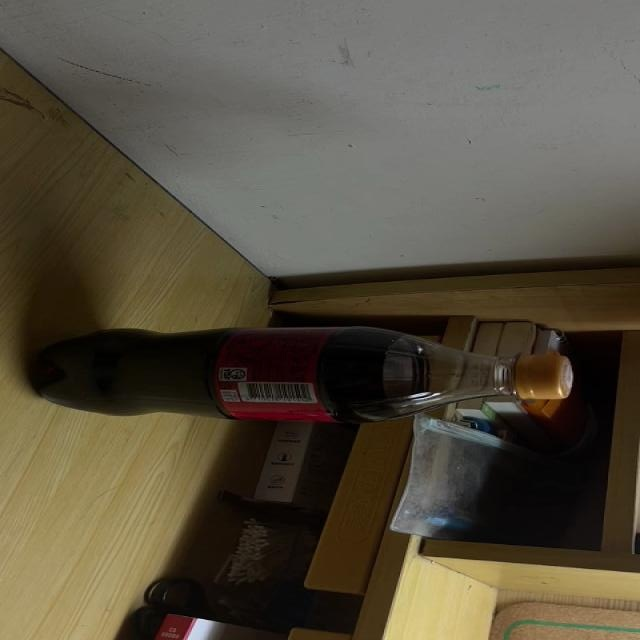Coca-Cola: (31, 328, 576, 422)
